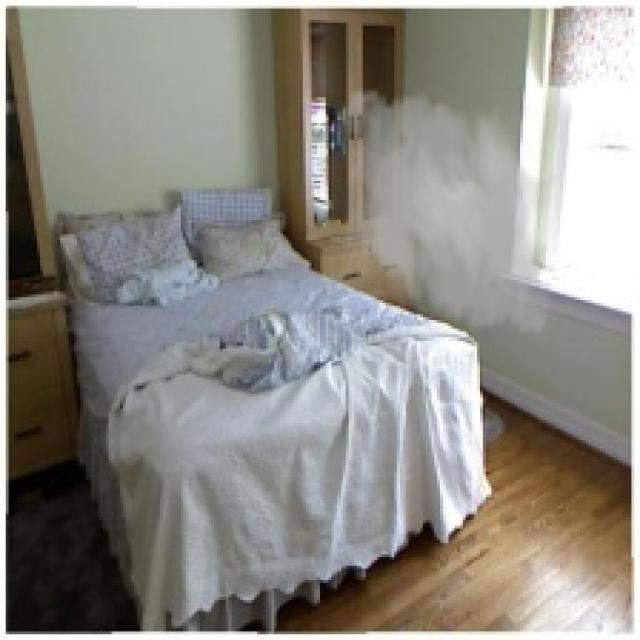smoke: (323, 77, 568, 346)
